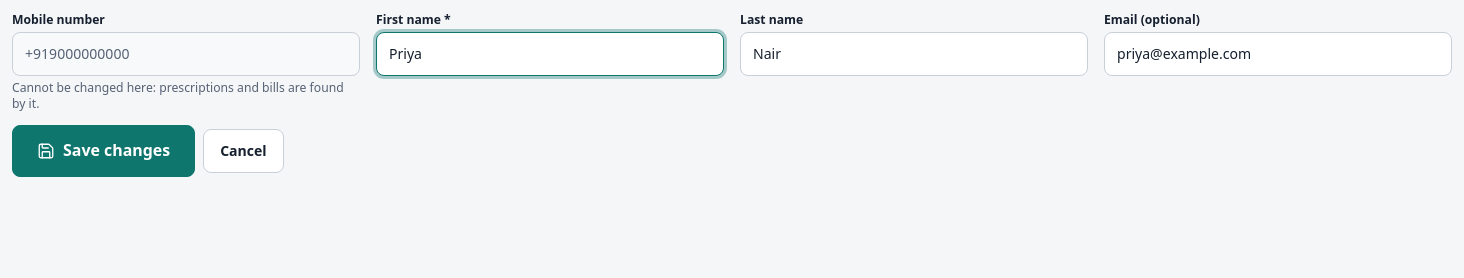
Test: CustomerForm (edit) › puts the server's message for the email under the email field
The image size is (1464, 278).
What coordinates should you click on to do the following:
click the button "Save changes"
I would click on:
 (104, 151)
Its box is [12, 125, 195, 177].
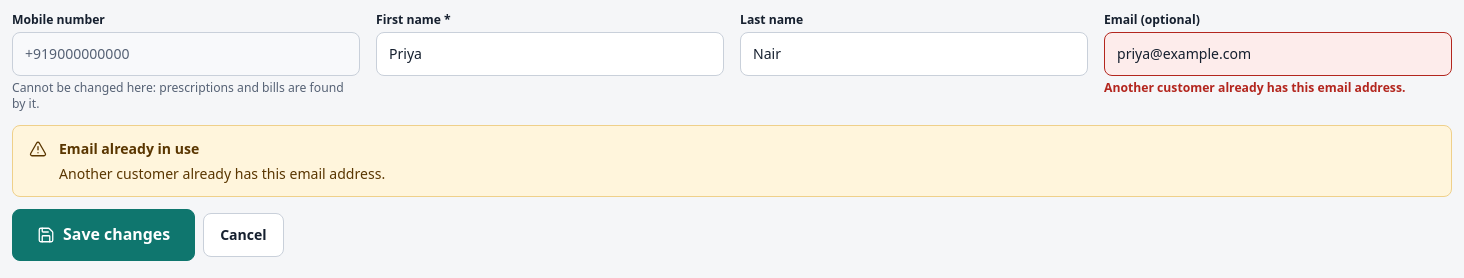
Result: the text "Another customer already has this email address." is shown at [1104, 80, 1452, 96]
